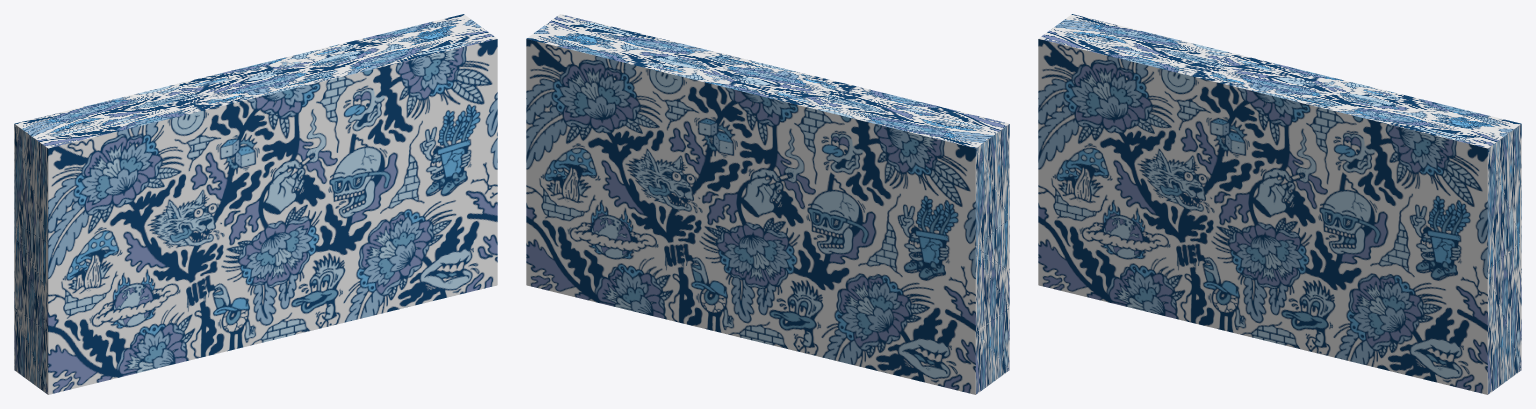
The model's file is porcelain.fbx.
3 views of the same model, side by side, from view 1: azimuth 30°, elevation 25°; view 2: azimuth 150°, elevation 25°; view 3: azimuth 330°, elevation 25° (orthographic).
Parts seen in each view (by area): view 1: Cube_fracturepart9, Cube_fracturepart18, Cube_fracturepart4, Cube_fracturepart1, Cube_fracturepart17, Cube_fracturepart8, Cube_fracturepart13, Cube_fracturepart20, Cube_fracturepart12, Cube_fracturepart11, Cube_fracturepart7, Cube_fracturepart14 (+8 smaller); view 2: Cube_fracturepart20, Cube_fracturepart10, Cube_fracturepart19, Cube_fracturepart8, Cube_fracturepart18, Cube_fracturepart16, Cube_fracturepart9, Cube_fracturepart1, Cube_fracturepart2, Cube_fracturepart7, Cube_fracturepart4, Cube_fracturepart17 (+7 smaller); view 3: Cube_fracturepart9, Cube_fracturepart18, Cube_fracturepart17, Cube_fracturepart4, Cube_fracturepart8, Cube_fracturepart13, Cube_fracturepart20, Cube_fracturepart11, Cube_fracturepart12, Cube_fracturepart1, Cube_fracturepart14, Cube_fracturepart6 (+8 smaller).
Part boxes in pixels (<box>): Cube_fracturepart9: <box>268,90,442,242</box>; Cube_fracturepart18: <box>393,160,497,310</box>; Cube_fracturepart4: <box>170,199,281,359</box>; Cube_fracturepart1: <box>14,115,115,242</box>; Cube_fracturepart17: <box>420,14,497,166</box>; Cube_fracturepart8: <box>103,207,171,372</box>; Cube_fracturepart13: <box>186,76,278,207</box>; Cube_fracturepart20: <box>352,24,448,169</box>; Cube_fracturepart12: <box>14,198,128,324</box>; Cube_fracturepart11: <box>166,263,331,365</box>; Cube_fracturepart7: <box>14,308,140,394</box>; Cube_fracturepart14: <box>102,82,215,166</box>; Cube_fracturepart20: <box>552,30,683,182</box>; Cube_fracturepart10: <box>692,58,782,230</box>; Cube_fracturepart19: <box>590,182,717,303</box>; Cube_fracturepart8: <box>836,210,913,368</box>; Cube_fracturepart18: <box>526,157,611,305</box>; Cube_fracturepart16: <box>709,230,830,355</box>; Cube_fracturepart9: <box>592,117,746,233</box>; Cube_fracturepart1: <box>920,111,1009,247</box>; Cube_fracturepart2: <box>837,110,958,221</box>; Cube_fracturepart7: <box>870,308,1009,394</box>; Cube_fracturepart4: <box>750,206,837,348</box>; Cube_fracturepart17: <box>526,14,626,159</box>; Cube_fracturepart9: <box>1259,113,1432,274</box>; Cube_fracturepart18: <box>1383,242,1521,394</box>; Cube_fracturepart17: <box>1421,113,1521,269</box>; Cube_fracturepart4: <box>1160,168,1271,309</box>; Cube_fracturepart8: <box>1093,137,1161,313</box>; Cube_fracturepart13: <box>1199,56,1269,204</box>; Cube_fracturepart20: <box>1342,99,1477,252</box>; Cube_fracturepart11: <box>1157,258,1322,354</box>; Cube_fracturepart12: <box>1038,121,1118,241</box>; Cube_fracturepart1: <box>1038,14,1108,133</box>; Cube_fracturepart14: <box>1092,40,1243,103</box>; Cube_fracturepart6: <box>1117,89,1212,174</box>.
Size of the model in its own units: 518 by 271 by 67.68.
Materials: 1 (1 with a texture image).
